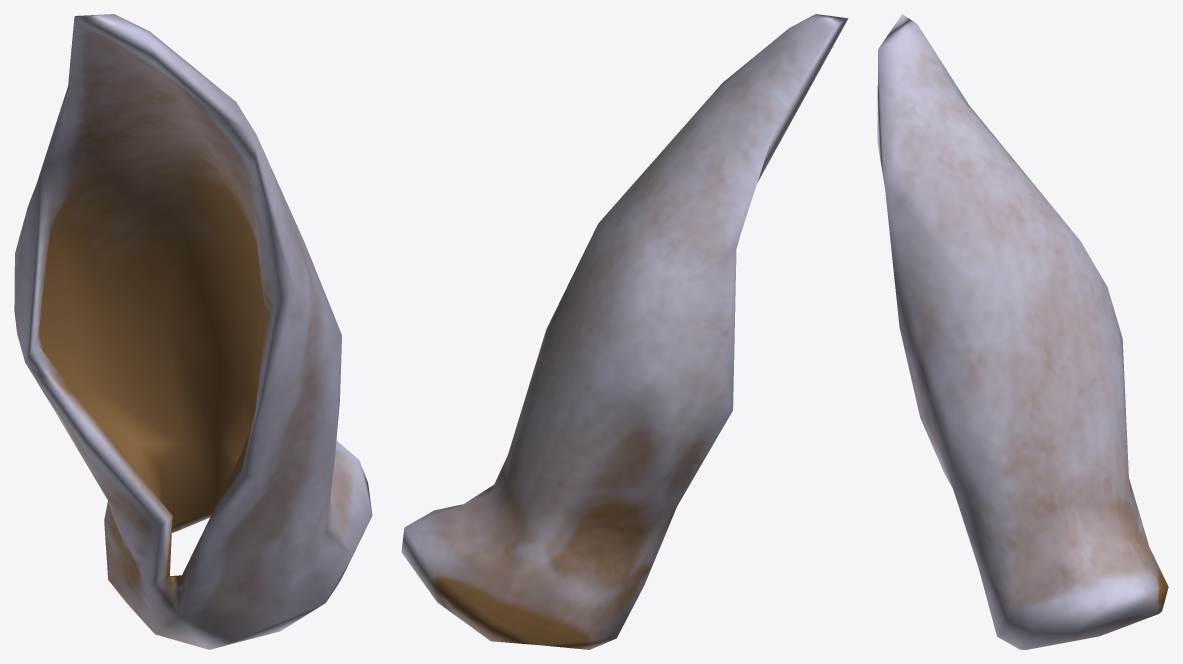
File: Ears.glb
3 views of the same model, side by side, from view 1: azimuth 30°, elevation 25°; view 2: azimuth 150°, elevation 25°; view 3: azimuth 270°, elevation 25° (orthographic). The views are drawn at different scales.
Visible parts, largest first — view 1: Equine_4_copy1; view 2: Equine_4_copy1; view 3: Equine_4_copy1.
Part boxes in pixels (x1,y1,x2,y2): Equine_4_copy1: [14, 14, 372, 649]; Equine_4_copy1: [401, 14, 848, 649]; Equine_4_copy1: [877, 14, 1168, 649].
Bounding box in the file's own units: 0.0836 × 0.1454 × 0.0708.
Materials: 1 (1 with a texture image).
